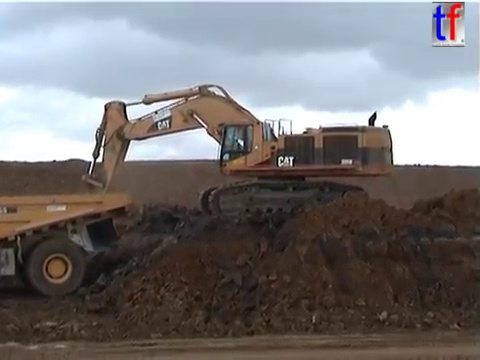excavator: (64, 81, 396, 255)
truck: (1, 189, 132, 298)
